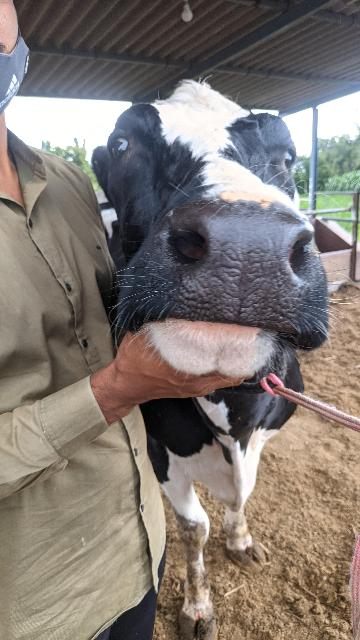Muzzle: (217, 208, 283, 322)
